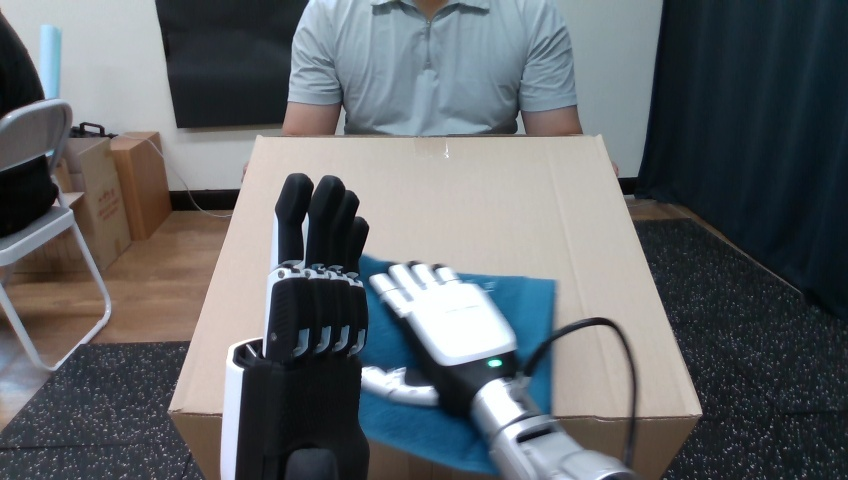left robot hand: (362, 262, 635, 479), (221, 173, 368, 478)
